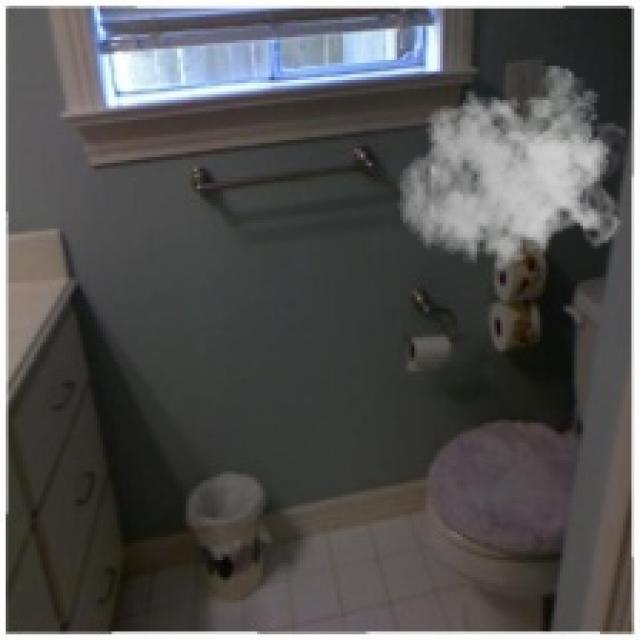Smoke: (397, 66, 626, 286)
